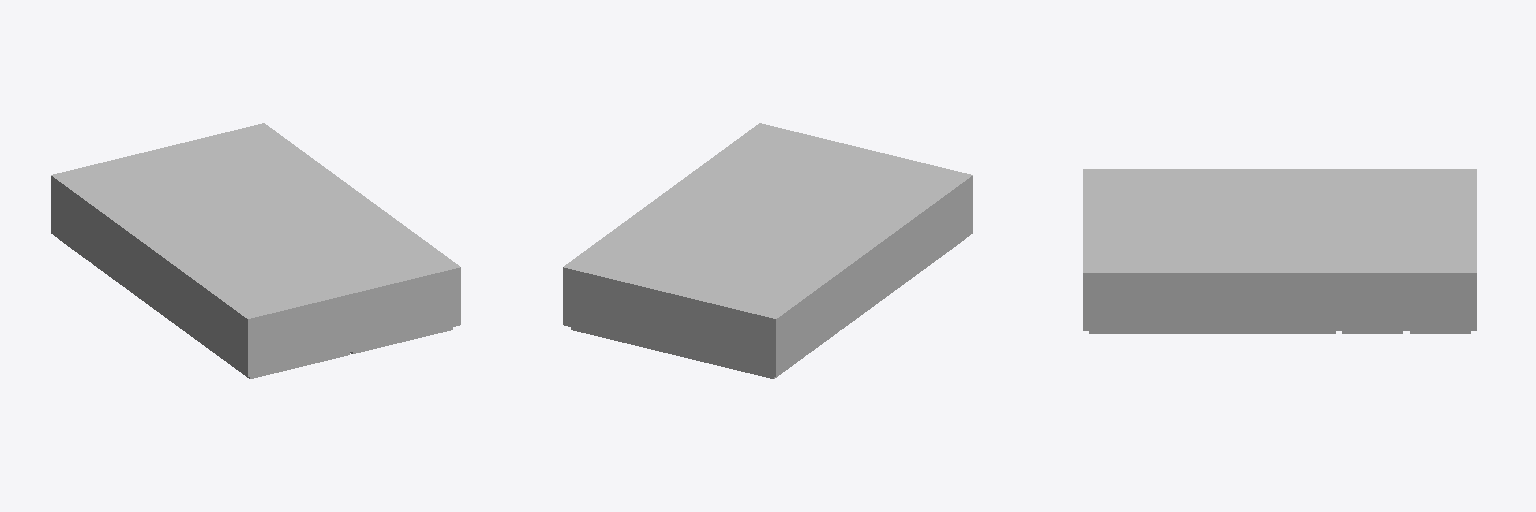
Rendered from wardrobe.obj.
3 renders of one model, left to right at view 1: azimuth 30°, elevation 25°; view 2: azimuth 150°, elevation 25°; view 3: azimuth 270°, elevation 25°, orthographic.
Visible parts, largest first — view 1: obj_0; view 2: obj_0; view 3: obj_0.
Part boxes in pixels (x1,y1,x2,y2): obj_0: (51, 123, 460, 378); obj_0: (563, 123, 972, 378); obj_0: (1083, 169, 1476, 333).
Size of the model in its own units: 77 by 24 by 123.